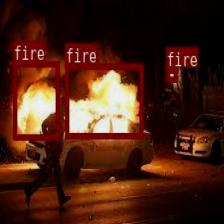fire: (64, 63, 142, 138), (12, 60, 58, 138), (165, 66, 177, 80)
